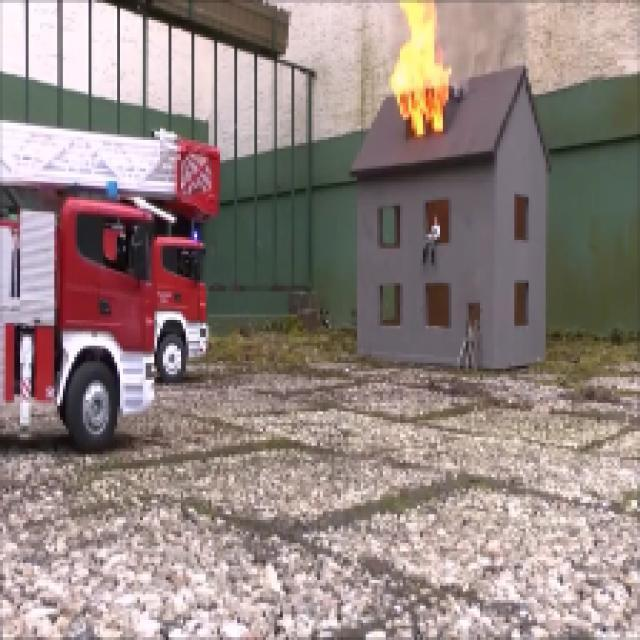Fire: (372, 0, 490, 153)
